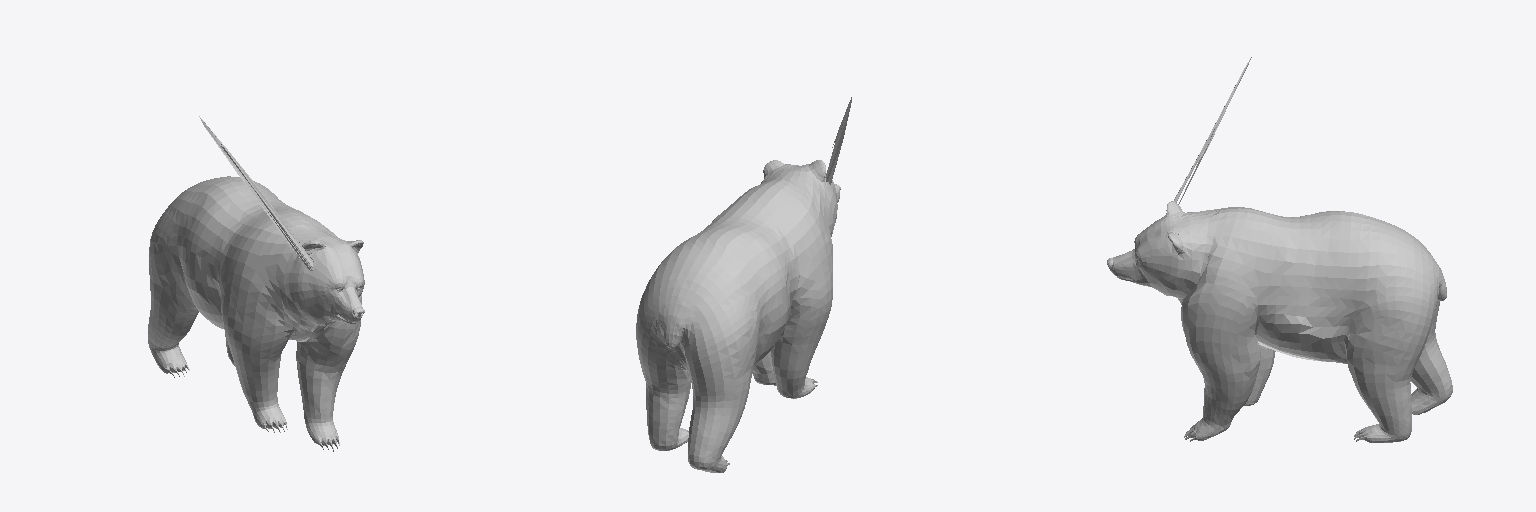
File: Bear0019.obj
The picture shows the model from 3 angles: view 1: azimuth 30°, elevation 25°; view 2: azimuth 150°, elevation 25°; view 3: azimuth 270°, elevation 25°; orthographic projection.
Parts seen in each view (by area): view 1: Object_237; view 2: Object_237; view 3: Object_237.
Boxes of the visible parts, box(x1,y1,x2,y2) form: Object_237: box(148, 116, 364, 451); Object_237: box(636, 97, 851, 472); Object_237: box(1107, 57, 1452, 442).
Size of the model in its own units: 2.33 by 5.27 by 4.92.